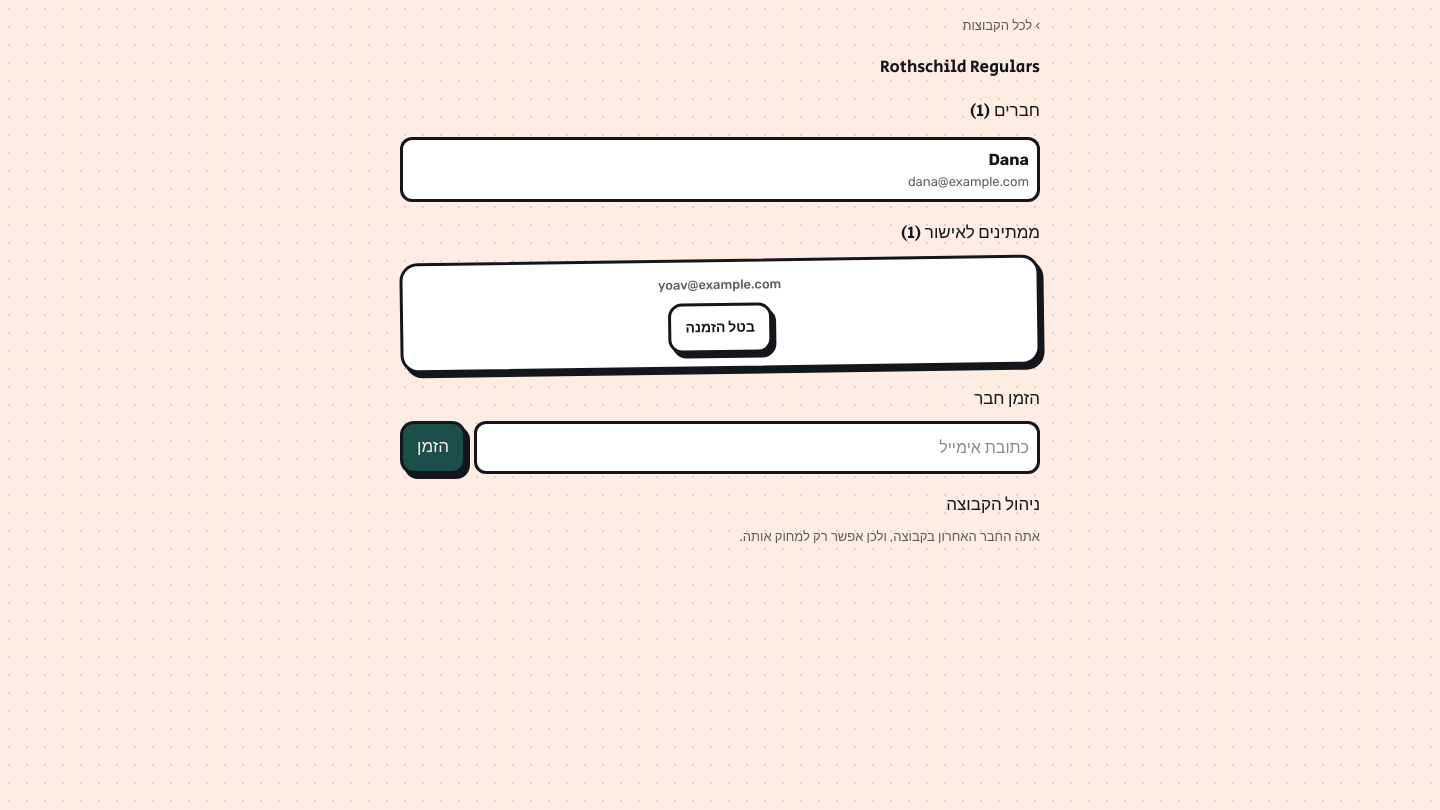
Scenario: cancelling a pending invitation DELETEs it and drops it from the list
Click the button with aria-label "בטל את ההזמנה ל-yoav@example.com" at (720, 327), box [668, 302, 772, 353]
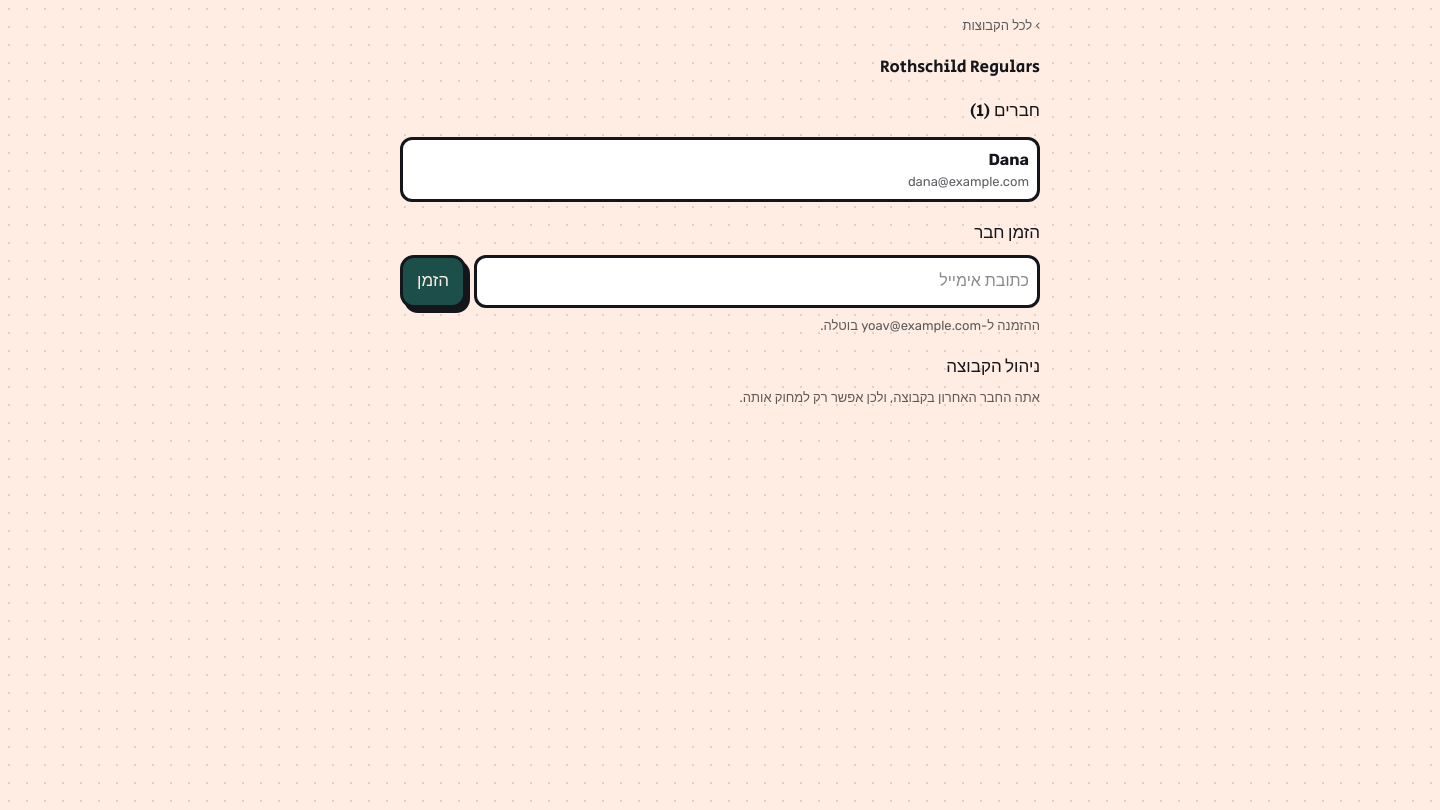
Result: the text "ההזמנה ל-yoav@example.com בוטלה." is shown at [820, 318, 1040, 333]
Result: the heading "ממתינים לאישור (1)" is gone
